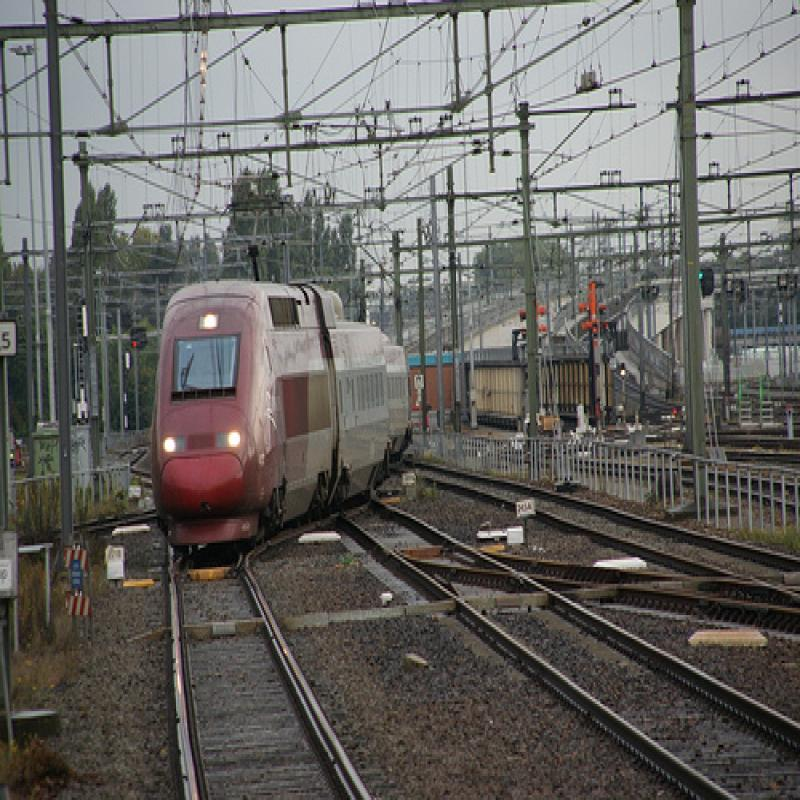train: (150, 277, 419, 566)
